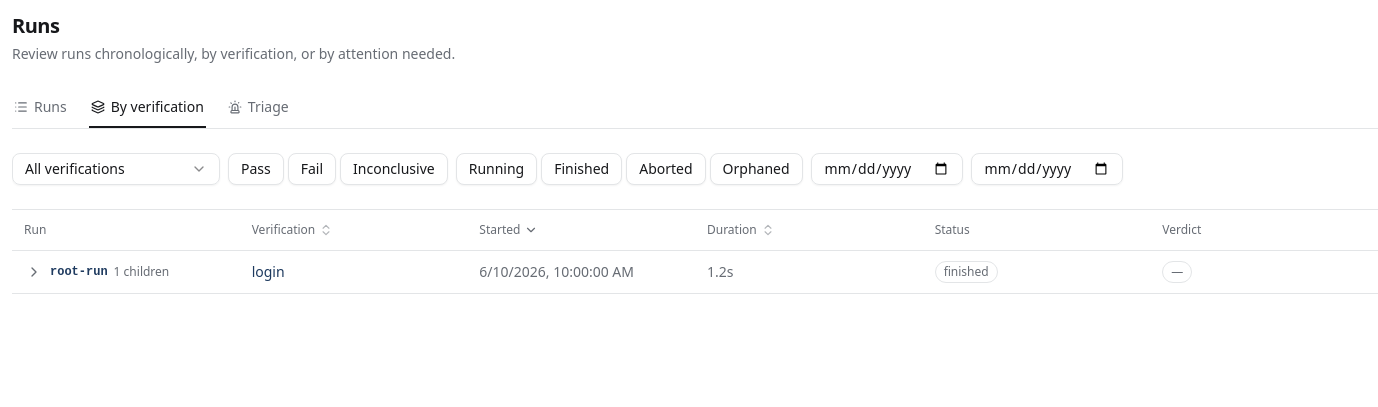
Test: RunsList › renders recorded lineage recursively
Click the button named "Expand".
click(34, 272)  # box [24,262,44,282]
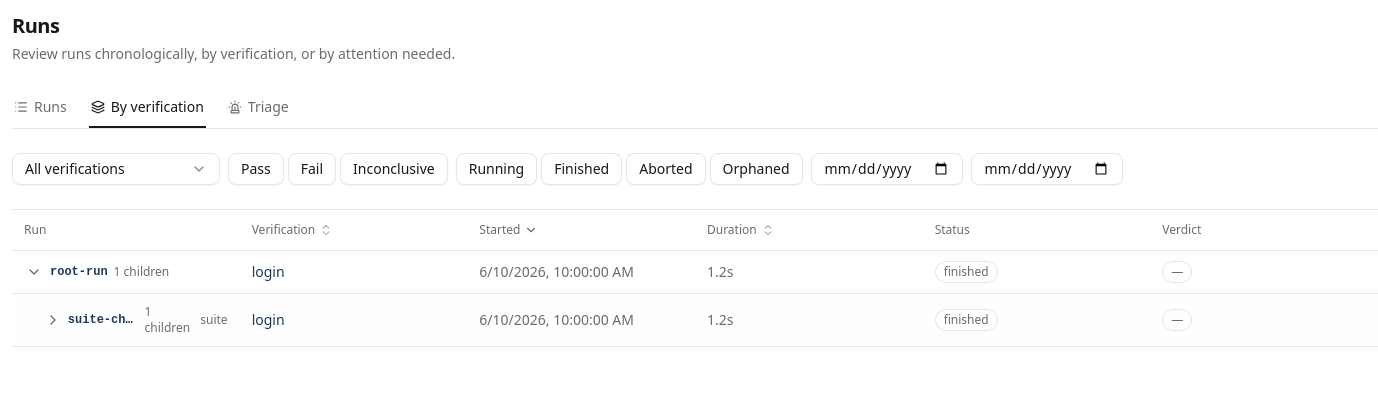
Expected: the text "invocation-child" is not shown
Expected: the link "suite-child" is shown, [68,312,139,328]
Click the button named "Expand".
click(53, 320)  # box [44,310,62,330]
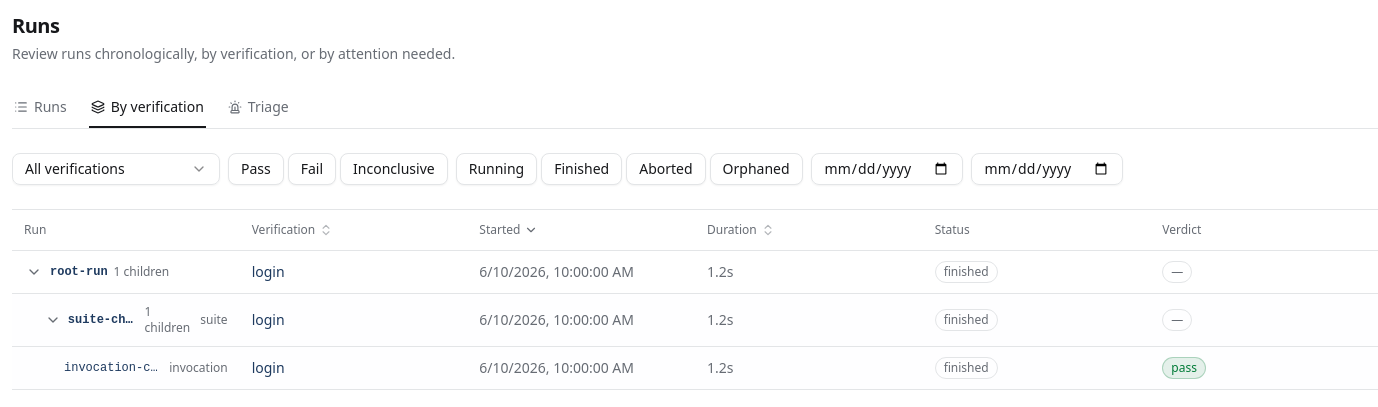
Expected: the link "invocation-child" is shown, [64,360,163,376]
Expected: the text "invocation" is shown, [169,360,228,376]
